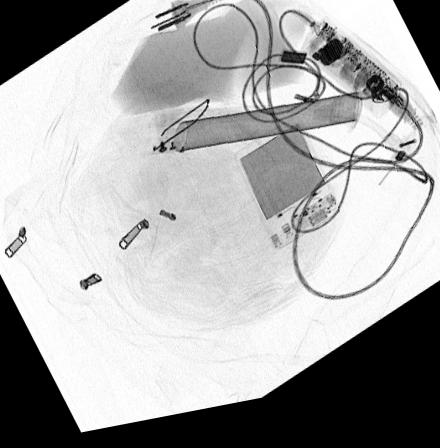Powerbank: (233, 126, 341, 262)
